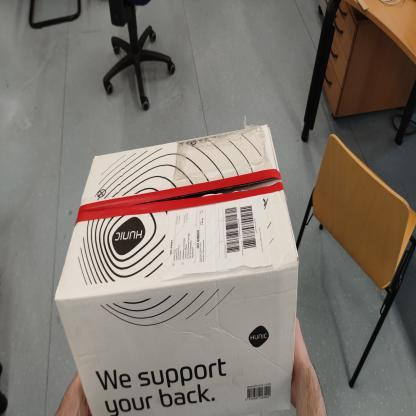-: (47, 120, 317, 416)
